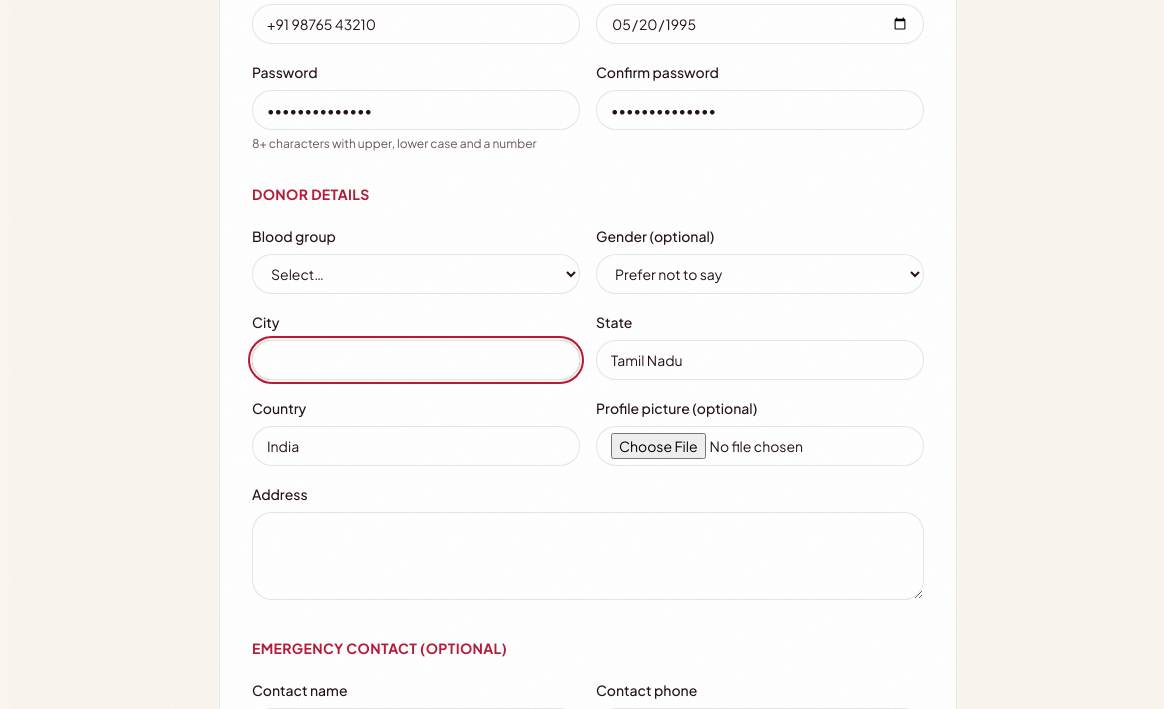
Test: RegisterPage › submits a clean payload (no confirmPassword) and redirects to the dashboard
This screenshot has width=1164, height=709.
Earlier steps of the test are not shown.
(page scrolled)
Type "Pune" into the field labelled "City" at (416, 360), box x1=252 y1=340 x2=580 y2=380
Replace the text in the field labelled "State" with "Maharashtra" at (760, 360), box x1=596 y1=340 x2=924 y2=380
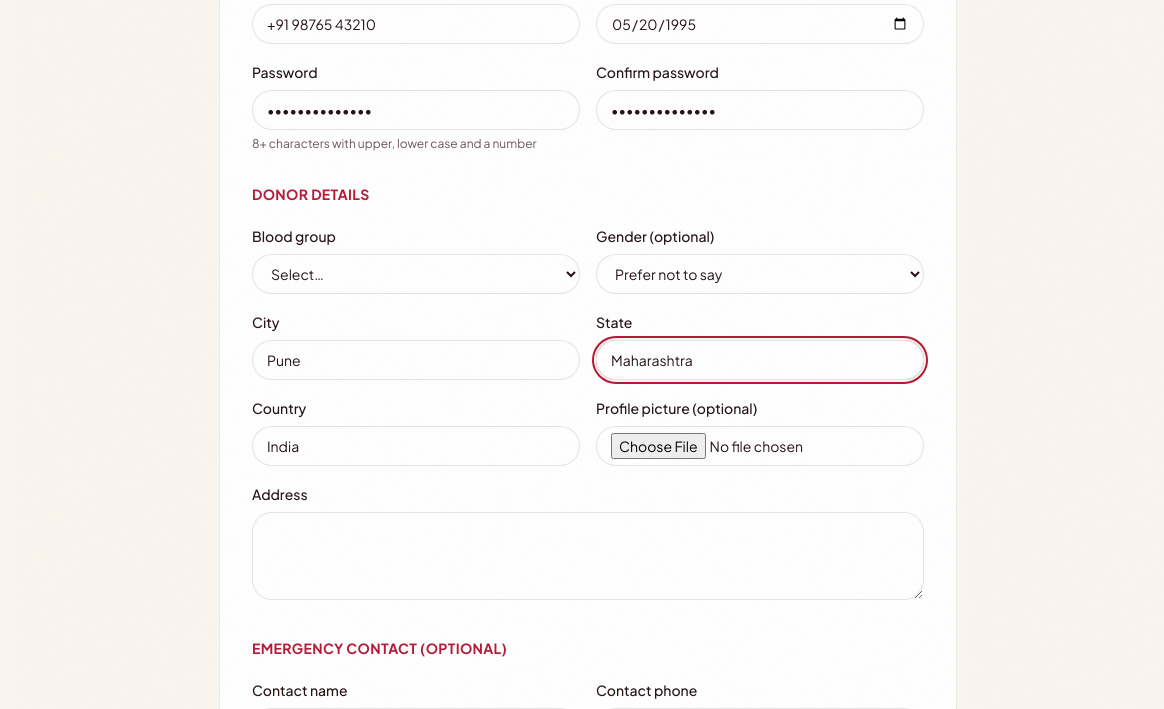
Type "12 Test Street, Pune" into the text box labelled "Address" at (588, 556), box x1=252 y1=512 x2=924 y2=600
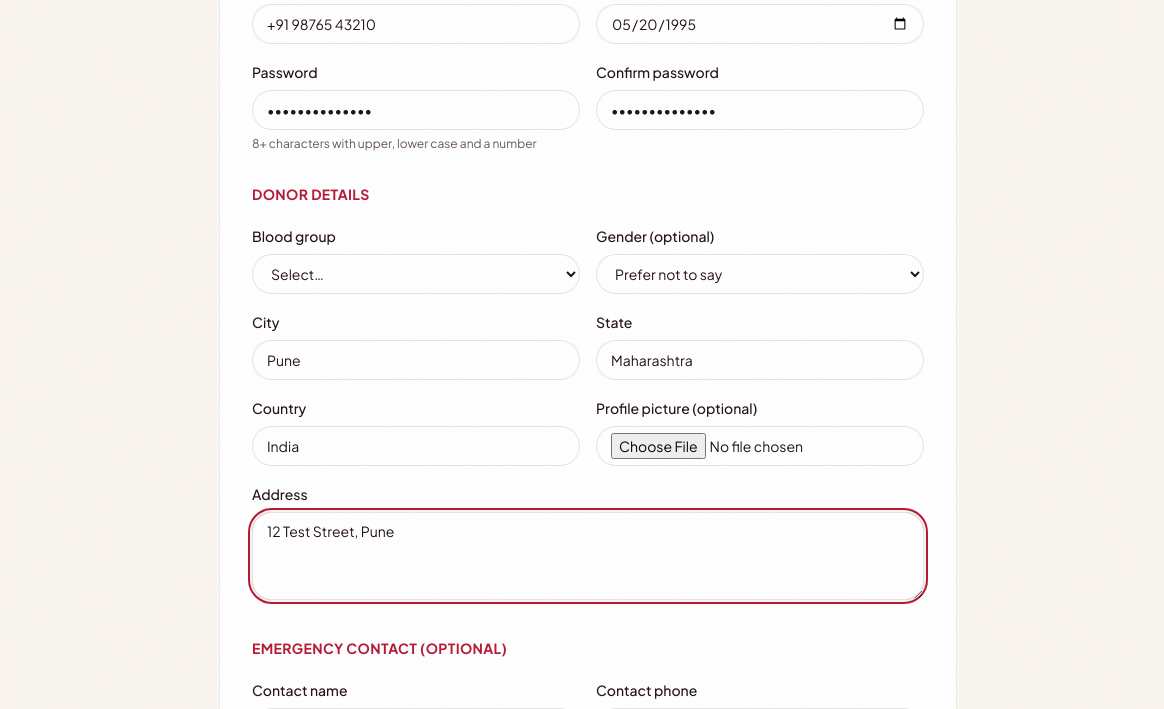
Select "O+" in the dropdown labelled "Blood group" at (416, 274), box x1=252 y1=254 x2=580 y2=294
(page scrolled)
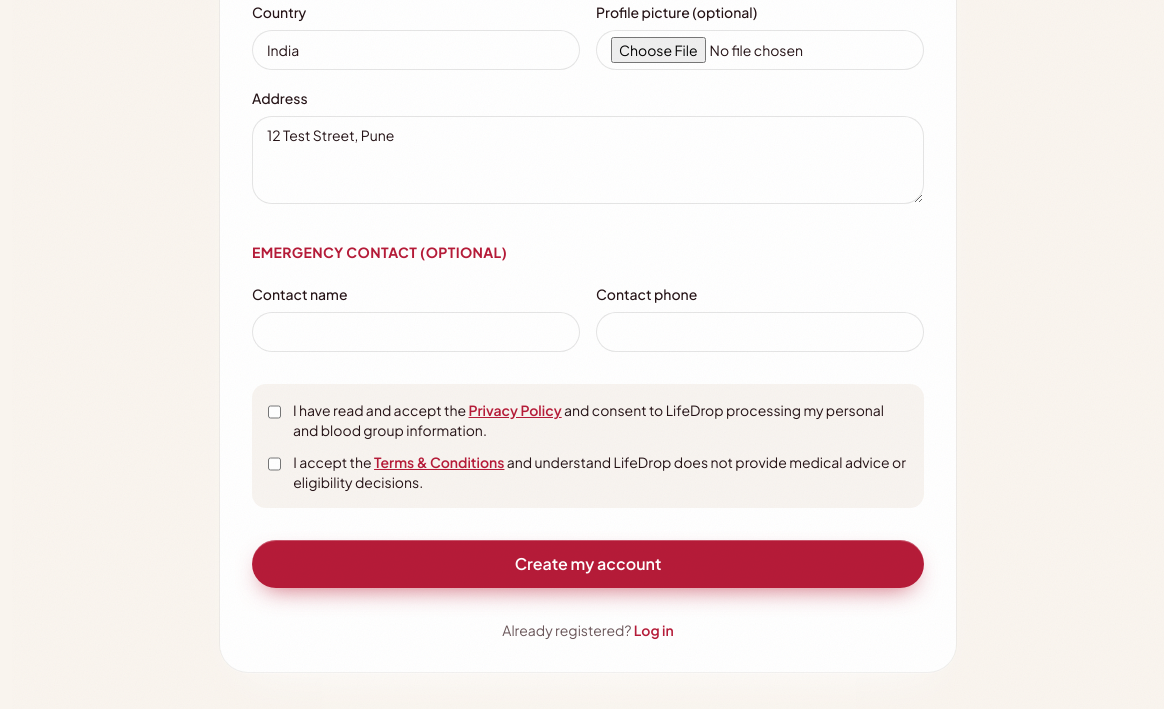
Click the checkbox labelled "Privacy Policy" at (274, 412), box x1=268 y1=404 x2=281 y2=420
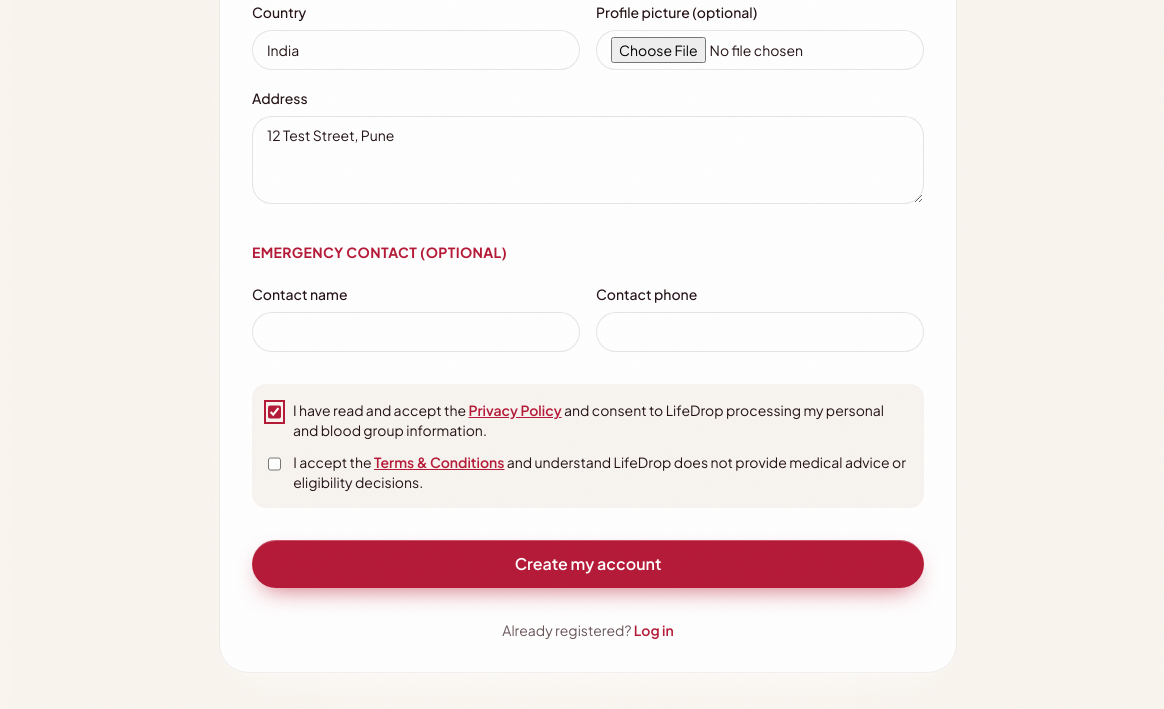
Click the checkbox labelled "Terms" at (275, 464), box x1=268 y1=456 x2=281 y2=472
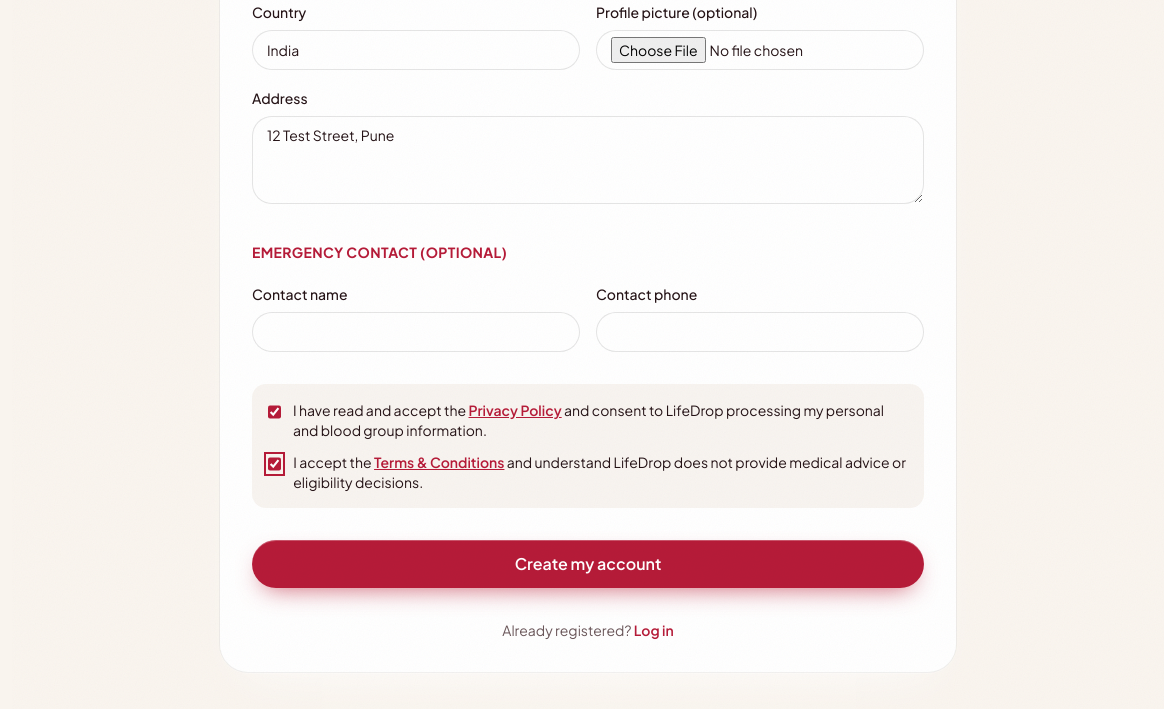
Click the button "Create my account" at (588, 564), box x1=252 y1=540 x2=924 y2=588
(page scrolled)
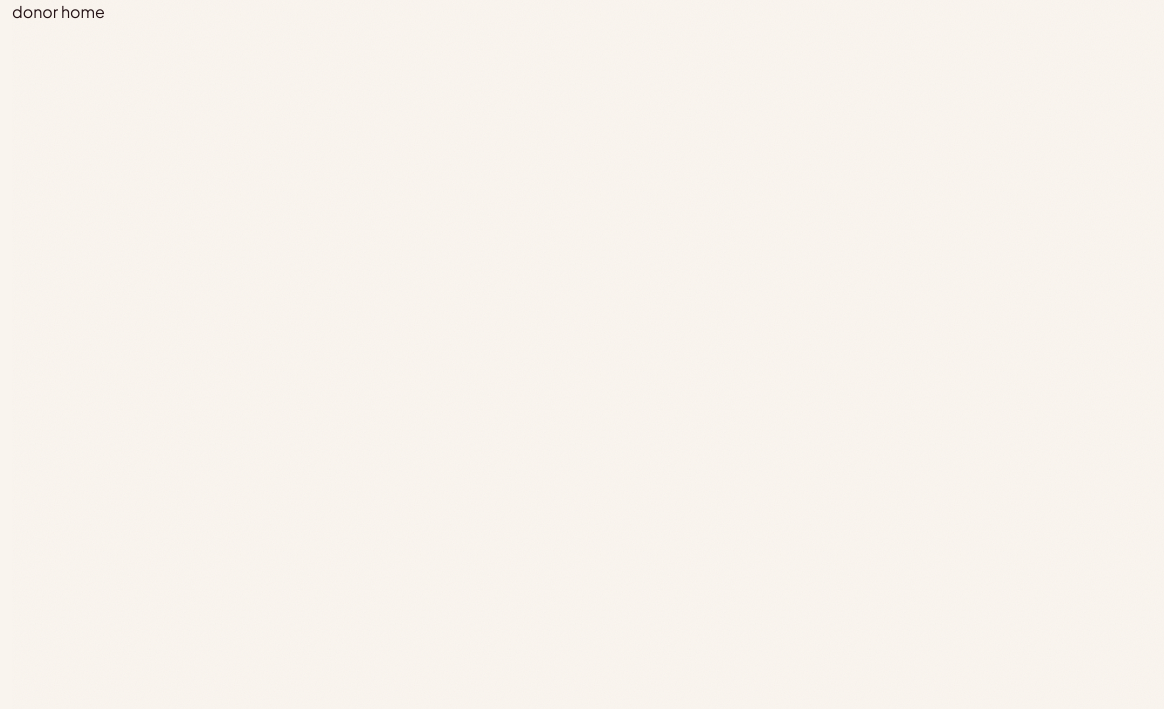
Expected: the text "donor home" is shown, x1=12 y1=1 x2=105 y2=22
